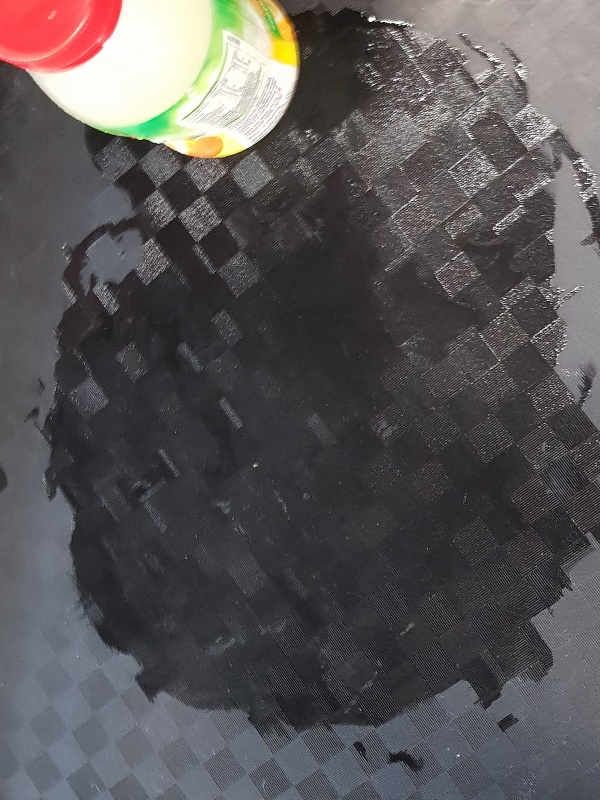Fruit Tree Yuzu Mixed Juice Drink: (1, 1, 301, 159)
